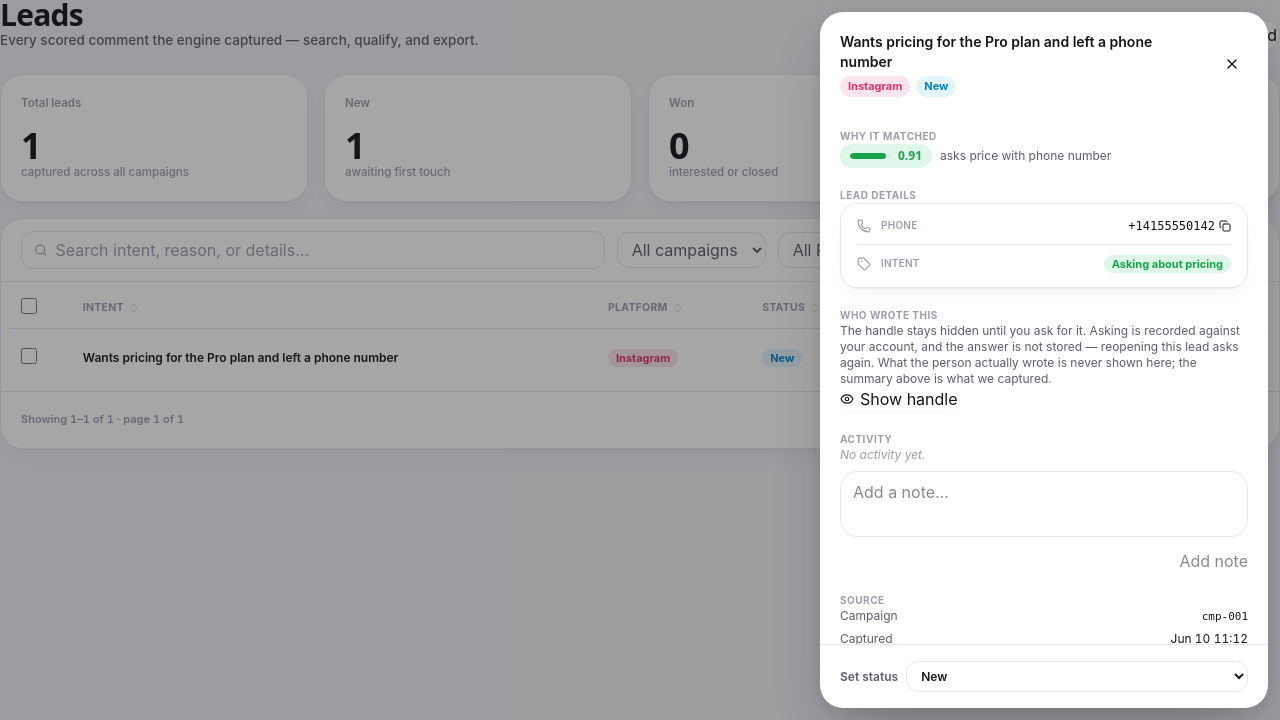
Scenario: Lead drawer notes › adding a note records a note write for the lead
Type "Left a voicemail" into the text box with placeholder "Add a note…" at (1044, 504), box [840, 471, 1248, 537]
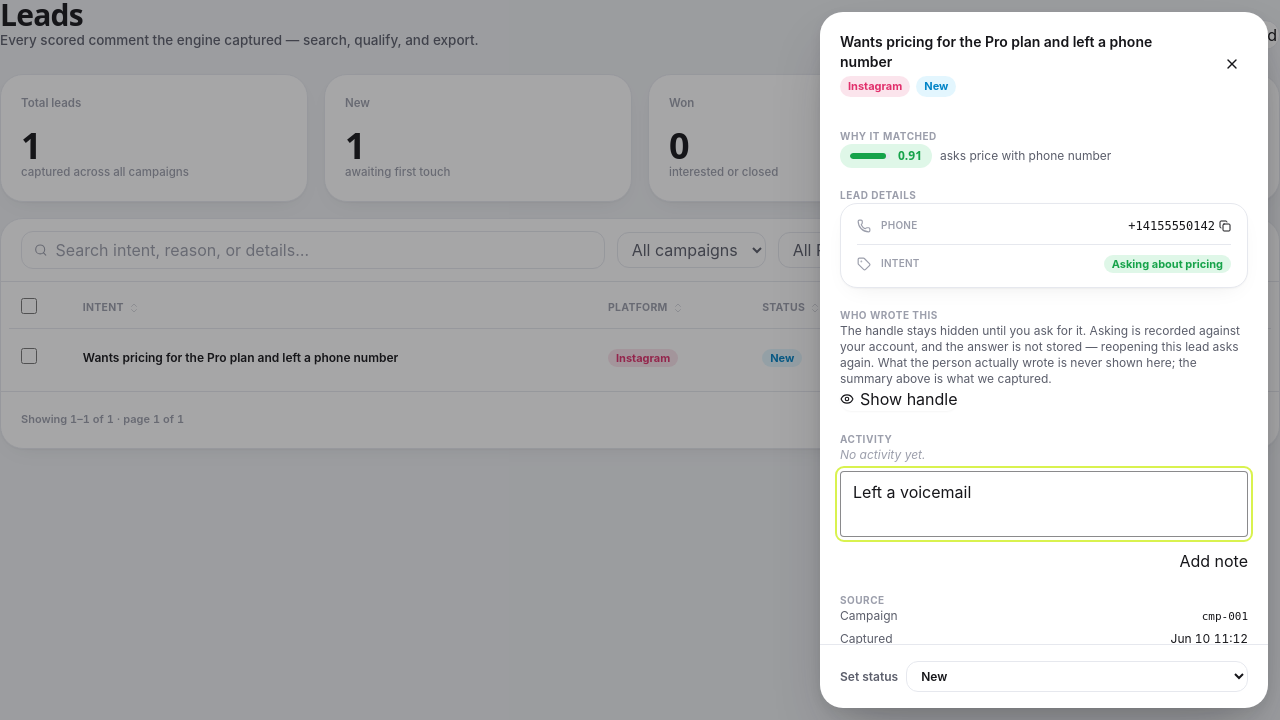
Click the button "Add note" at (1214, 561), box [1179, 549, 1248, 573]
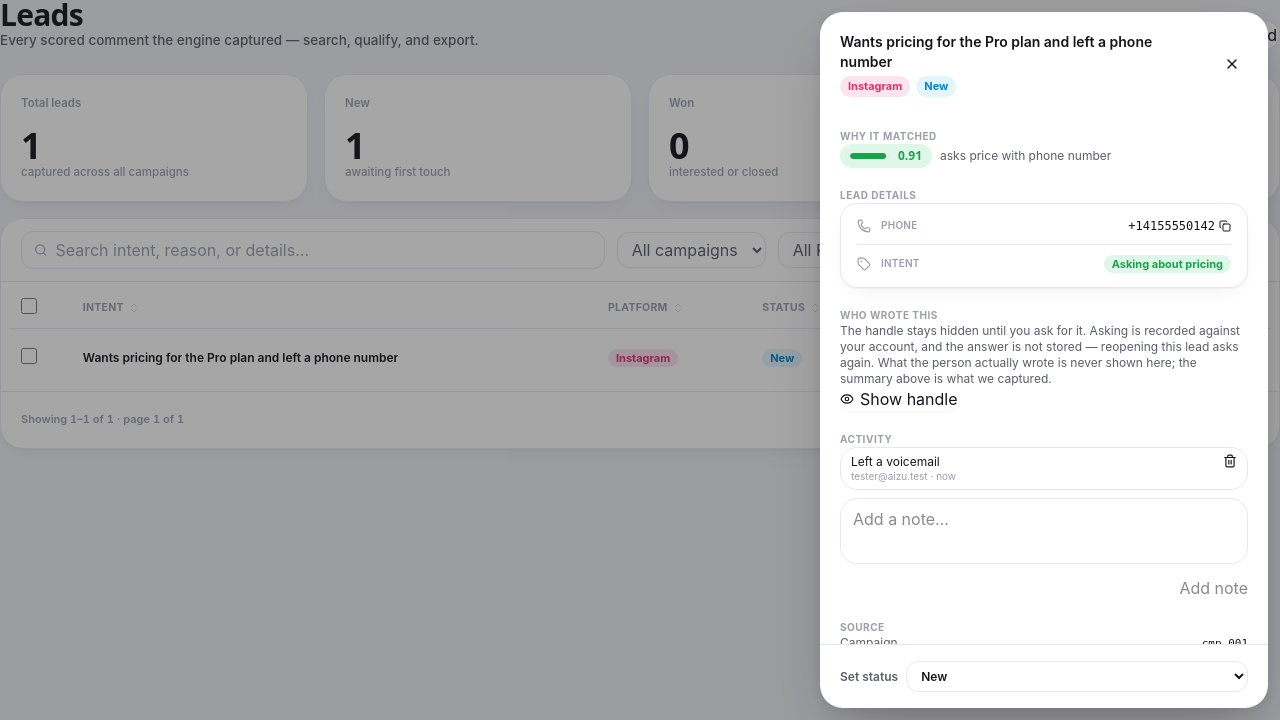
Check: the text "Left a voicemail" is shown, box [851, 454, 940, 470]
